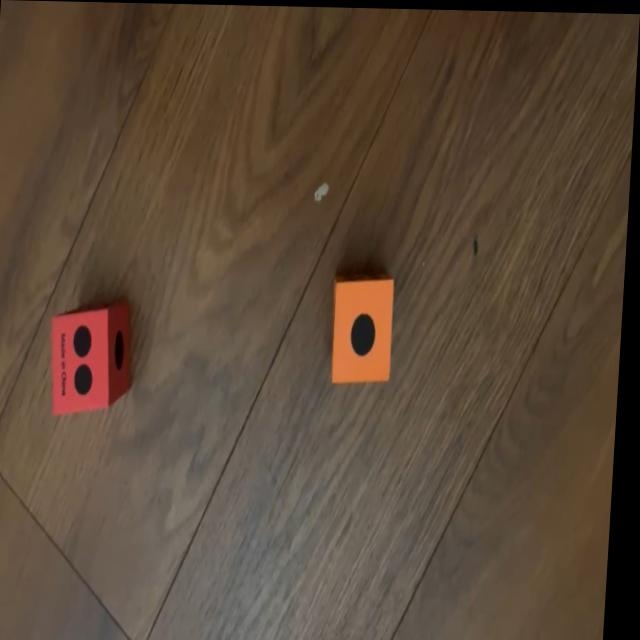red_block: (51, 299, 140, 415)
